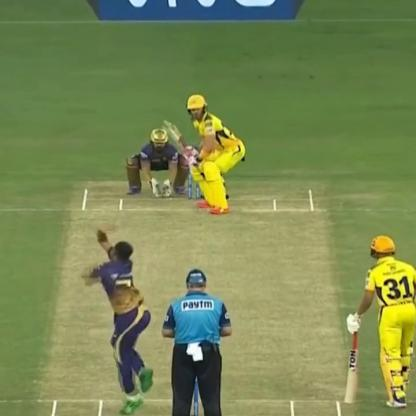bat: (159, 108, 201, 166), (341, 310, 364, 410)
pitch: (41, 173, 354, 416)
